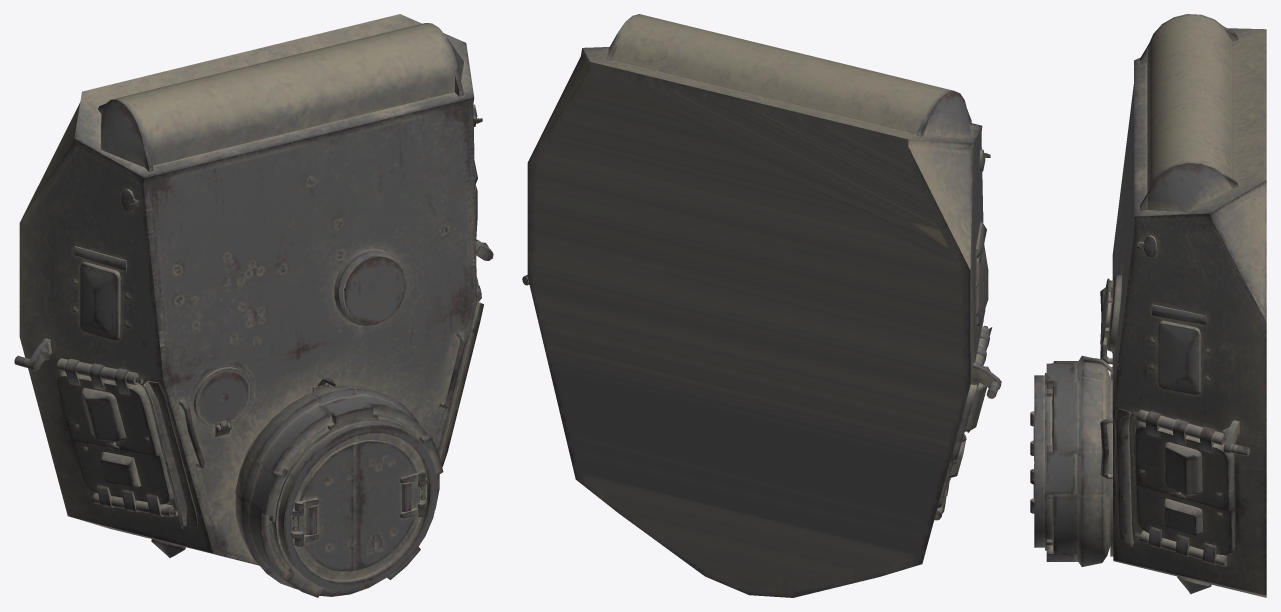
The model's file is Turret_01.glb.
The picture shows the model from 3 angles, left to right: view 1: azimuth 30°, elevation 25°; view 2: azimuth 150°, elevation 25°; view 3: azimuth 270°, elevation 25°; orthographic projection. The views are drawn at different scales.
Parts seen in each view (by area): view 1: set_0_group_0; view 2: set_0_group_0; view 3: set_0_group_0.
Boxes of the visible parts, <box> form: set_0_group_0: <box>14,14,493,597</box>; set_0_group_0: <box>522,14,1001,597</box>; set_0_group_0: <box>1030,14,1266,597</box>.
Size of the model in its own units: 1.99 by 2.05 by 0.8863.
1 material, 1 textured.
